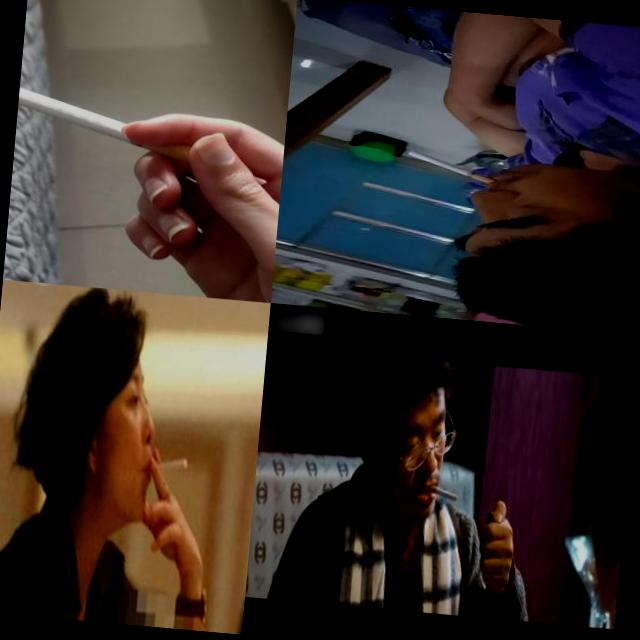smoke: (14, 86, 208, 166), (405, 150, 497, 184), (422, 482, 460, 504), (158, 453, 188, 475)
